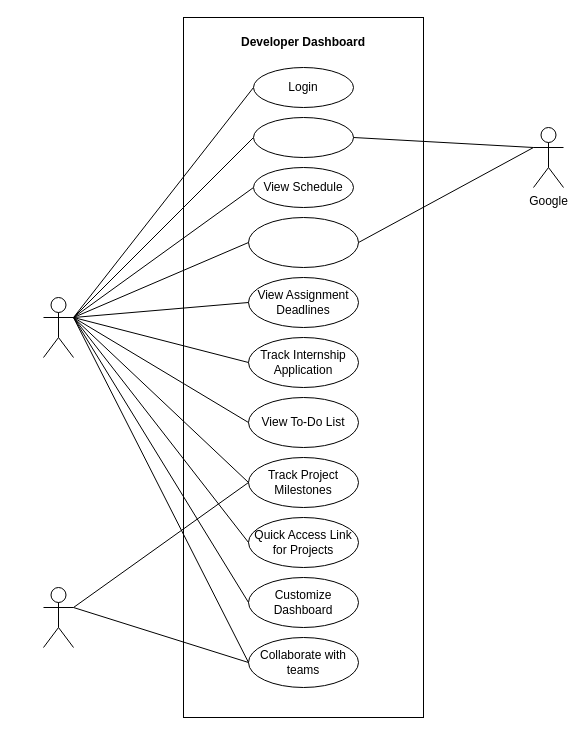
This 585x735 diagram has some shape labels left out. The shapes that lost their labels are listed below. From the top down, each one's box as (x1, y1, x2, y2) in pixels, then its label:
(252, 116, 354, 158): Authorization
(248, 216, 358, 268): Google Calender Integration
(42, 296, 74, 358): Student/ Developer
(42, 586, 74, 648): Team Members
